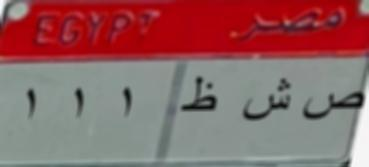1: (68, 81, 90, 132), (22, 83, 44, 122), (118, 83, 138, 125)
Thaa: (178, 72, 218, 123)
saad: (302, 88, 364, 128)
sheen: (237, 71, 293, 130)
